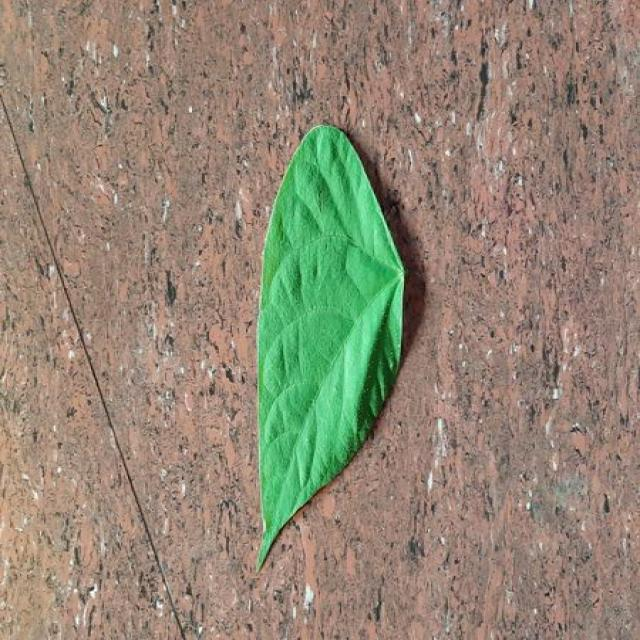beans: (258, 125, 403, 567)
